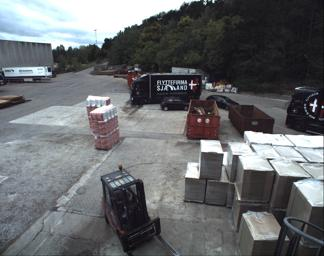rockwool_batts: (90, 102, 119, 149), (85, 92, 110, 119)
